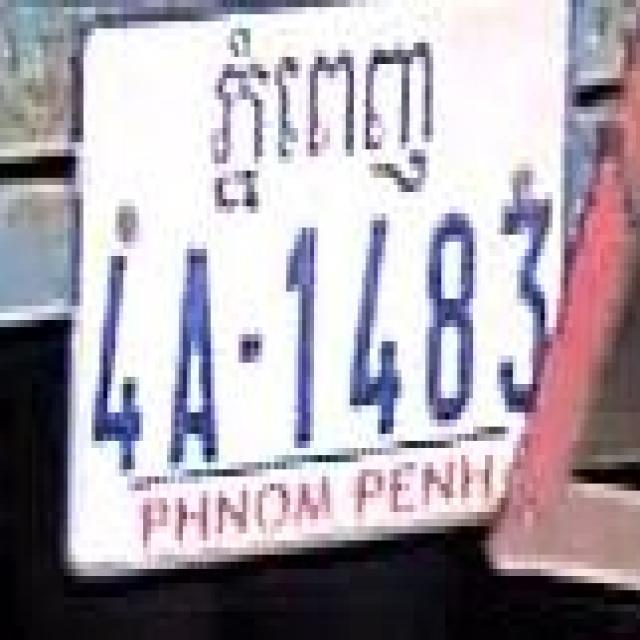Phnom_Penh: (211, 21, 434, 214)
